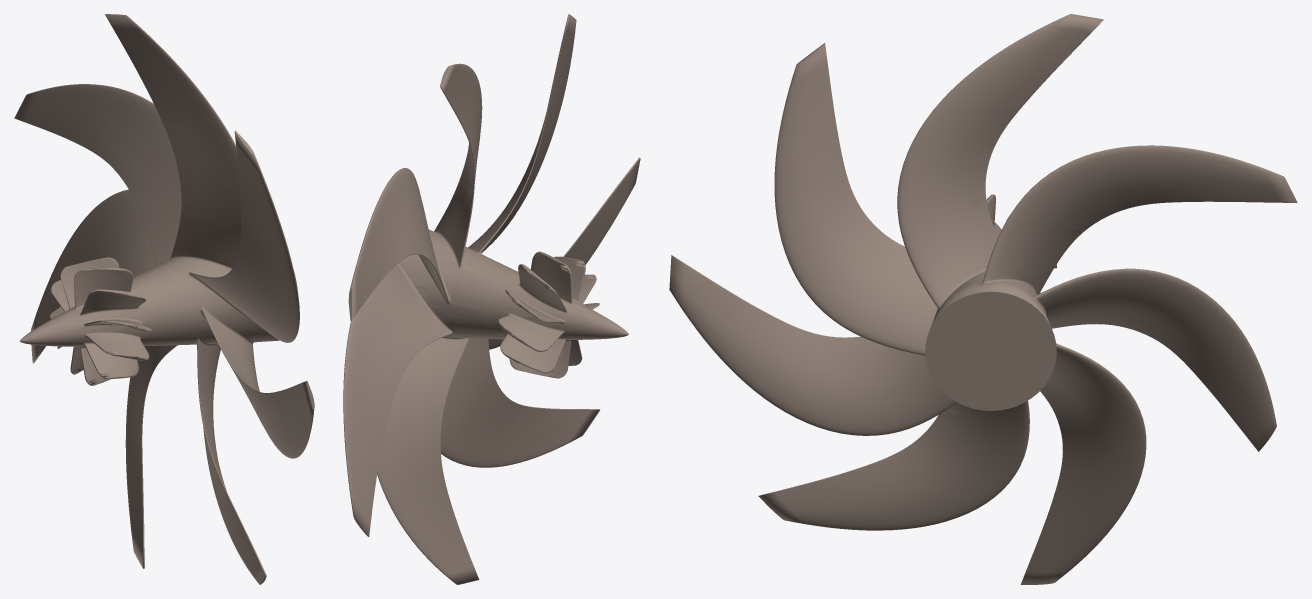
Rendered from propeller.dae.
3 renders of one model, left to right at view 1: azimuth 30°, elevation 25°; view 2: azimuth 150°, elevation 25°; view 3: azimuth 270°, elevation 25°, orthographic. The views are drawn at different scales.
Parts seen in each view (by area): view 1: VIFS001; view 2: VIFS001; view 3: VIFS001.
Part boxes in pixels (x1,y1,x2,y2): VIFS001: (14, 14, 314, 584); VIFS001: (343, 14, 640, 584); VIFS001: (669, 14, 1297, 584).
Size of the model in its own units: 0.6858 by 1.4 by 1.41.
